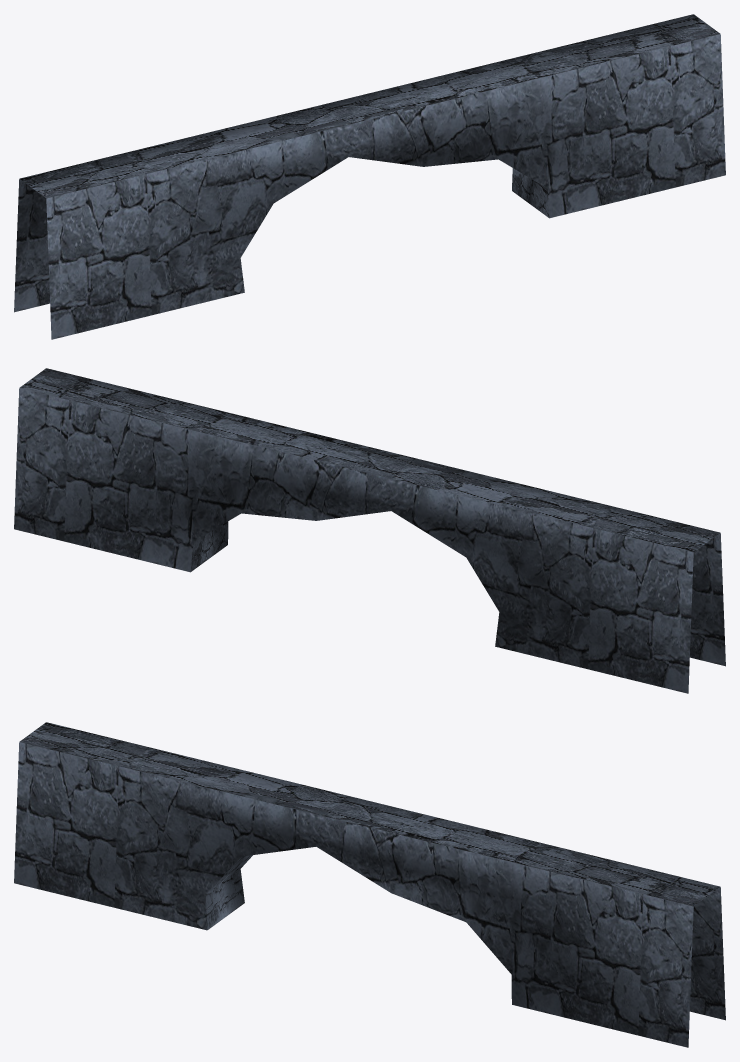
File: WallSmallSlide.fbx
3 renders of one model, top to bottom at view 1: azimuth 30°, elevation 25°; view 2: azimuth 150°, elevation 25°; view 3: azimuth 330°, elevation 25°, orthographic.
Parts seen in each view (by area): view 1: Cube_001; view 2: Cube_001; view 3: Cube_001.
Boxes of the visible parts, bbox=[...] form: Cube_001: bbox=[14, 14, 725, 339]; Cube_001: bbox=[14, 368, 725, 693]; Cube_001: bbox=[14, 722, 725, 1047].
Size of the model in its own units: 1149 by 224 by 111.
